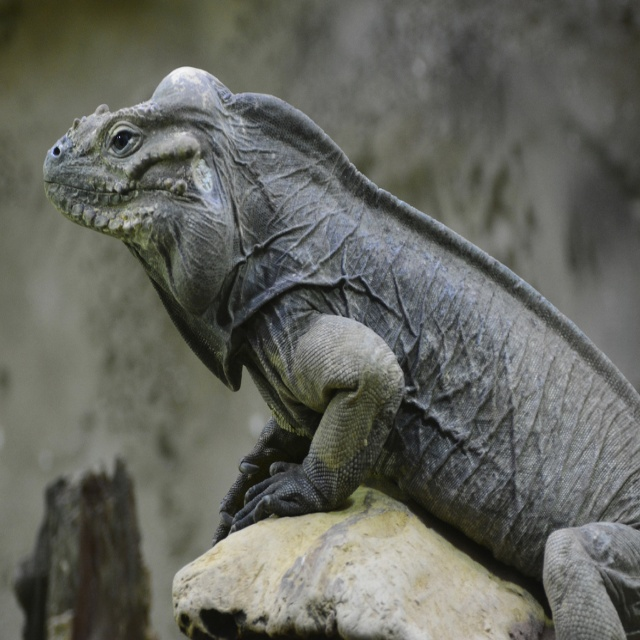Lizard: (90, 39, 608, 600)
